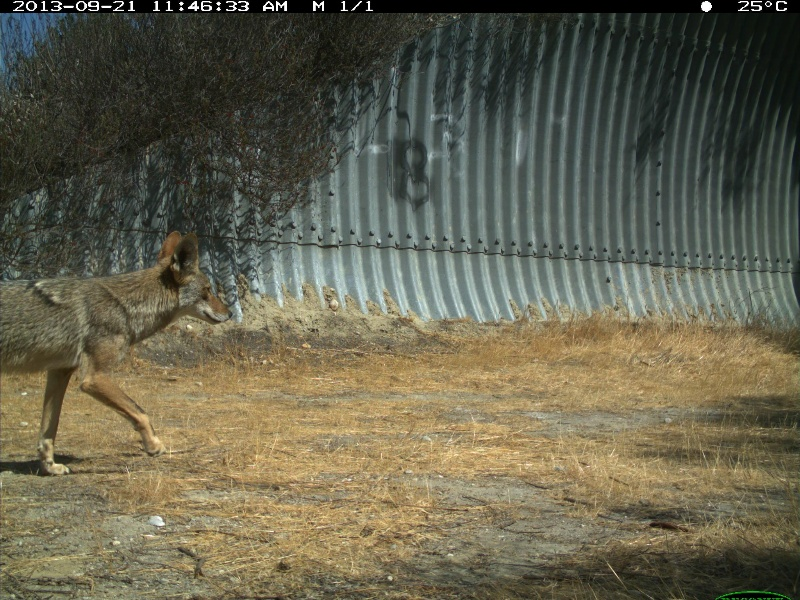coyote: (1, 233, 237, 473)
